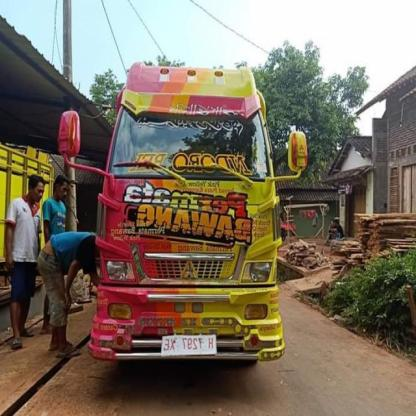truck: (58, 61, 311, 386)
